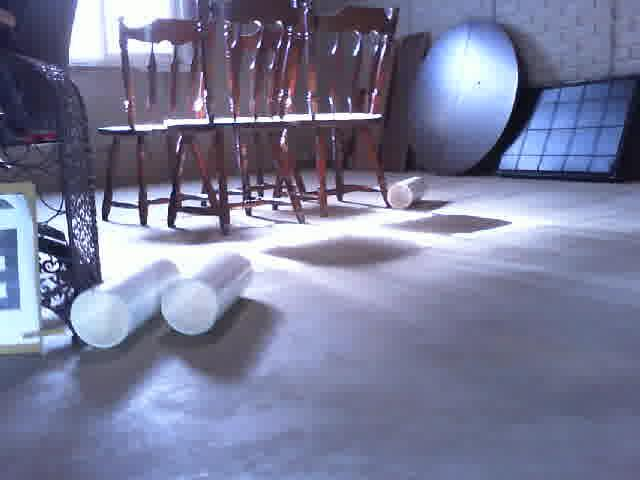coral: (69, 255, 183, 352), (161, 250, 255, 337), (384, 175, 432, 211)
